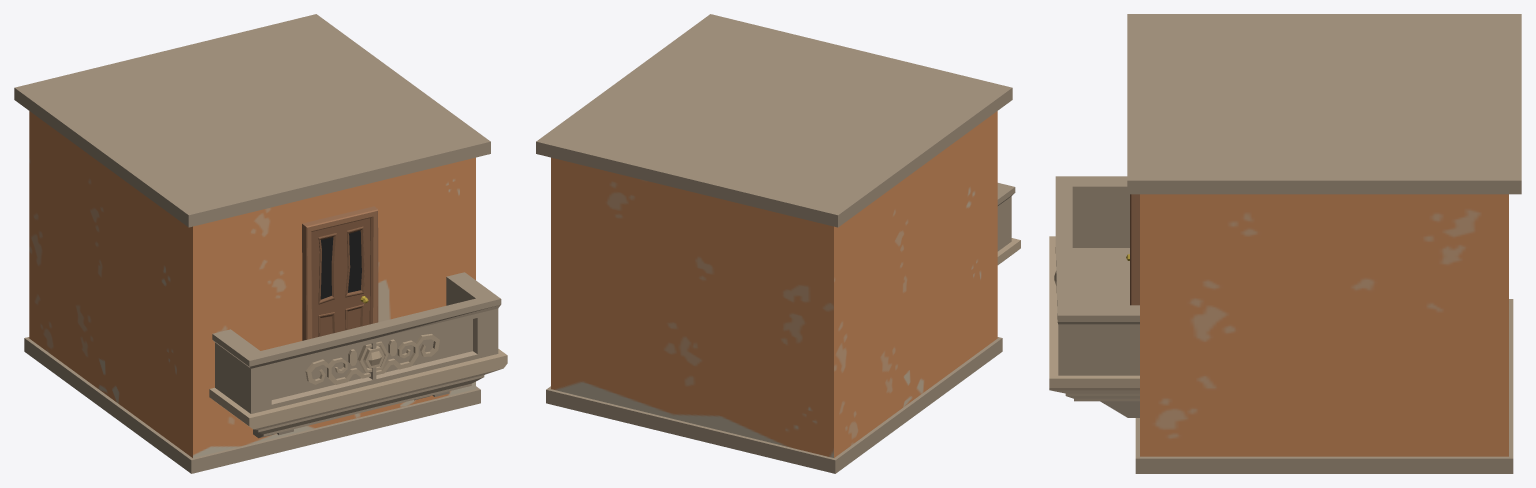
File: SM_Bld_Cuba_Room_06.glb
3 renders of one model, left to right at view 1: azimuth 30°, elevation 25°; view 2: azimuth 150°, elevation 25°; view 3: azimuth 270°, elevation 25°, orthographic. The views are drawn at different scales.
Parts seen in each view (by area): view 1: SM_Bld_Cuba_Room_06_part00; view 2: SM_Bld_Cuba_Room_06_part00; view 3: SM_Bld_Cuba_Room_06_part00.
Boxes of the visible parts, box(x1,y1,x2,y2) form: SM_Bld_Cuba_Room_06_part00: box(14, 14, 507, 473); SM_Bld_Cuba_Room_06_part00: box(536, 14, 1020, 473); SM_Bld_Cuba_Room_06_part00: box(1049, 14, 1521, 473).
Size of the model in its own units: 4 by 3.33 by 4.79.
Materials: 1 (1 with a texture image).
